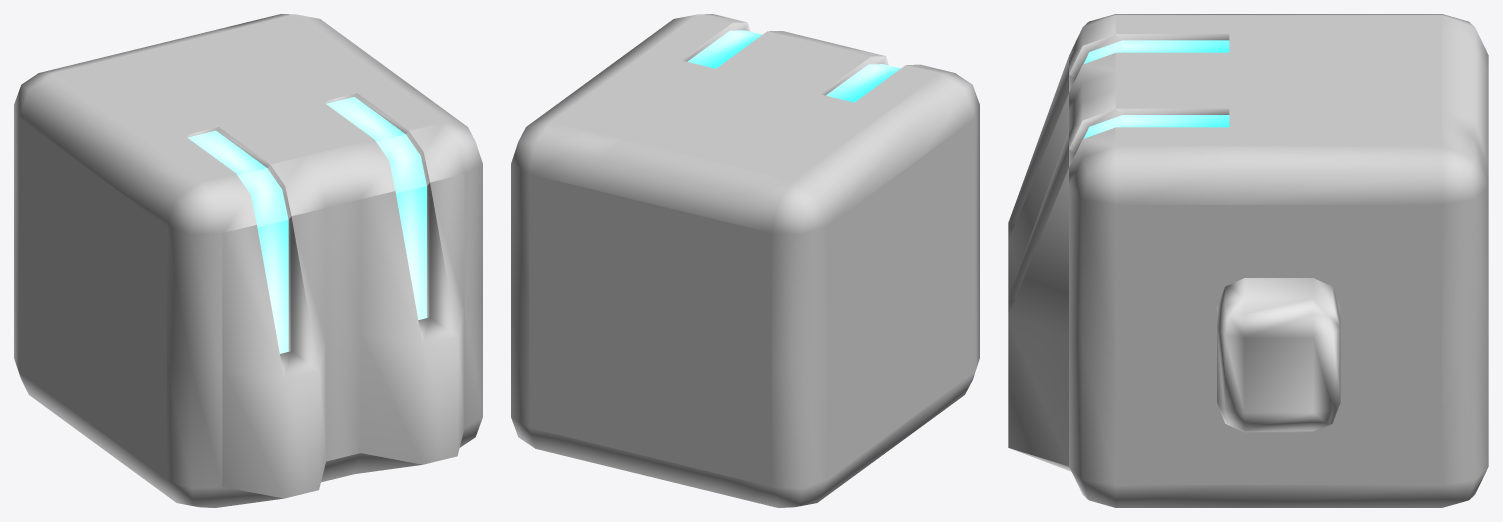
The model's file is bot.glb.
The picture shows the model from 3 angles, left to right: view 1: azimuth 30°, elevation 25°; view 2: azimuth 150°, elevation 25°; view 3: azimuth 270°, elevation 25°; orthographic projection. The views are drawn at different scales.
Parts seen in each view (by area): view 1: Cube; view 2: Cube; view 3: Cube, Cube.001.
Part boxes in pixels (left/top/right/bottom): Cube: left=14, top=14, right=482, bottom=507; Cube: left=511, top=14, right=979, bottom=507; Cube: left=1008, top=14, right=1488, bottom=507; Cube.001: left=1217, top=278, right=1340, bottom=432.
Bounding box in the file's own units: 3.82 × 3.24 × 3.92.
